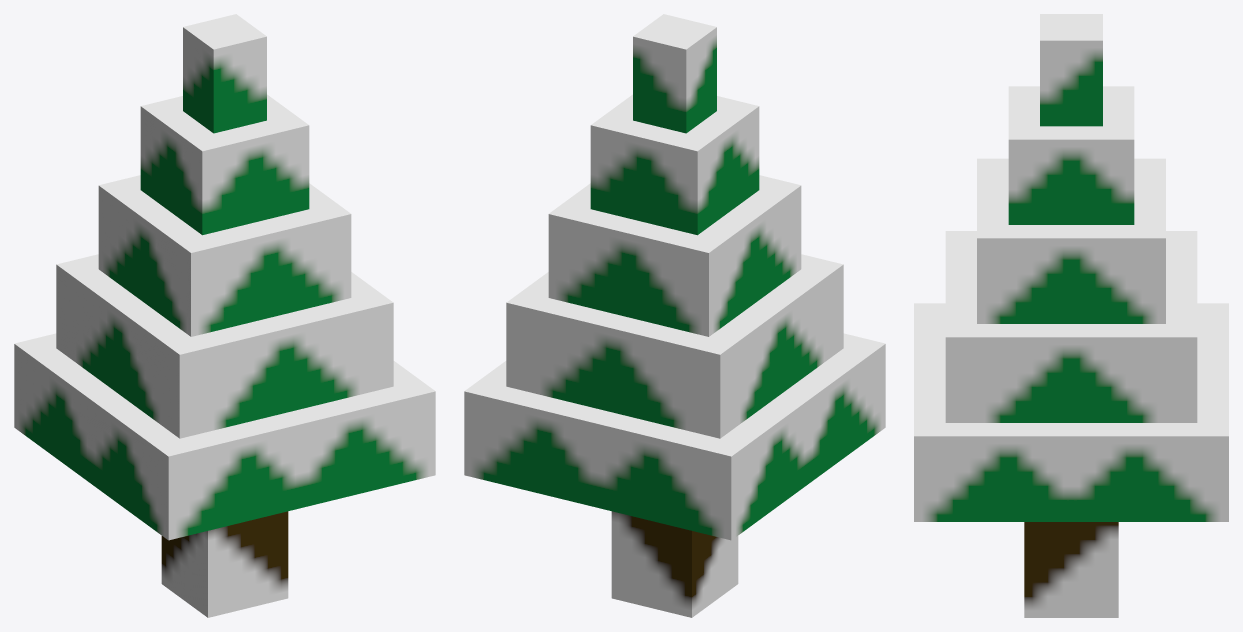
File: Pine_1.fbx
3 views of the same model, side by side, from view 1: azimuth 30°, elevation 25°; view 2: azimuth 150°, elevation 25°; view 3: azimuth 270°, elevation 25° (orthographic). The views are drawn at different scales.
Parts seen in each view (by area): view 1: Pine_1; view 2: Pine_1; view 3: Pine_1.
Part boxes in pixels (left/top/right/bottom): Pine_1: left=14, top=14, right=435, bottom=617; Pine_1: left=464, top=14, right=885, bottom=617; Pine_1: left=914, top=14, right=1228, bottom=617.
Size of the model in its own units: 20 by 40 by 20.
1 material, 1 textured.
